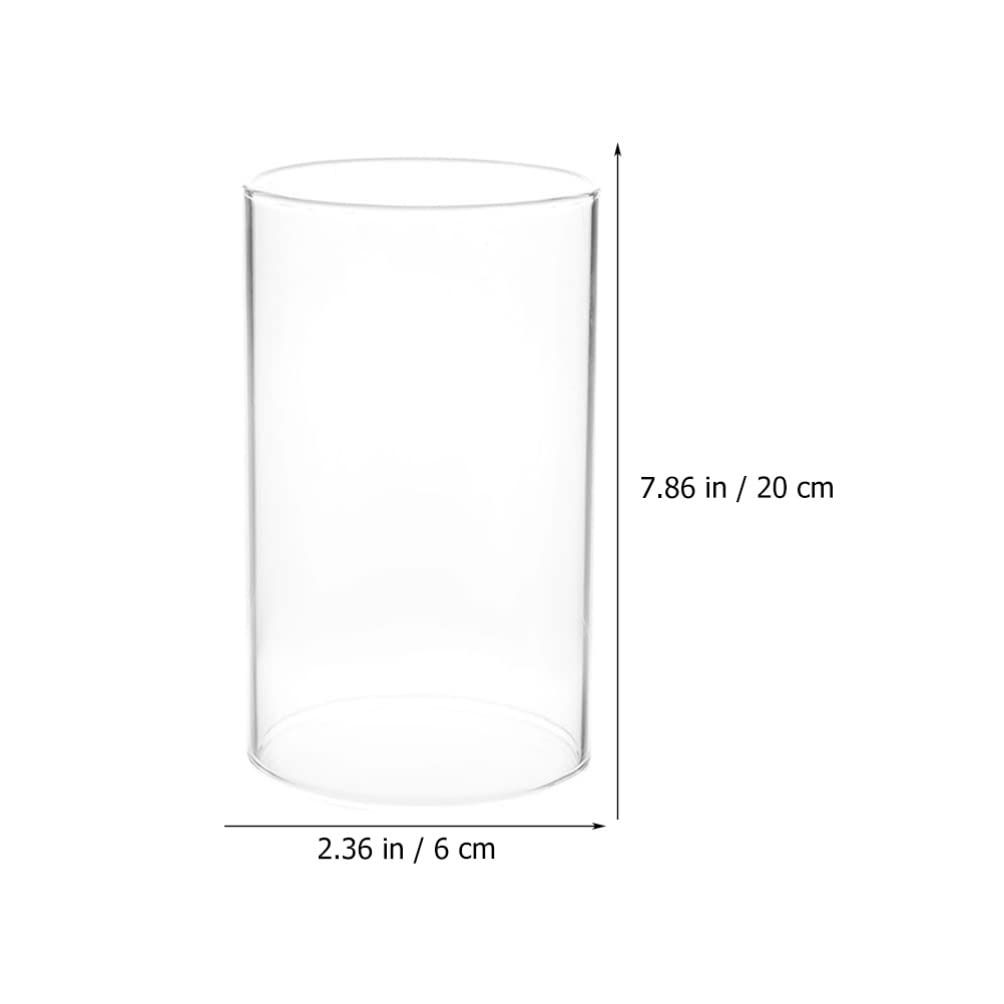/: (742, 476, 747, 502)
2.36: (318, 837, 372, 860)
6cm: (435, 837, 494, 860)
7.86: (641, 476, 695, 499)
\: (553, 762, 587, 783)
in: (706, 476, 726, 498)
